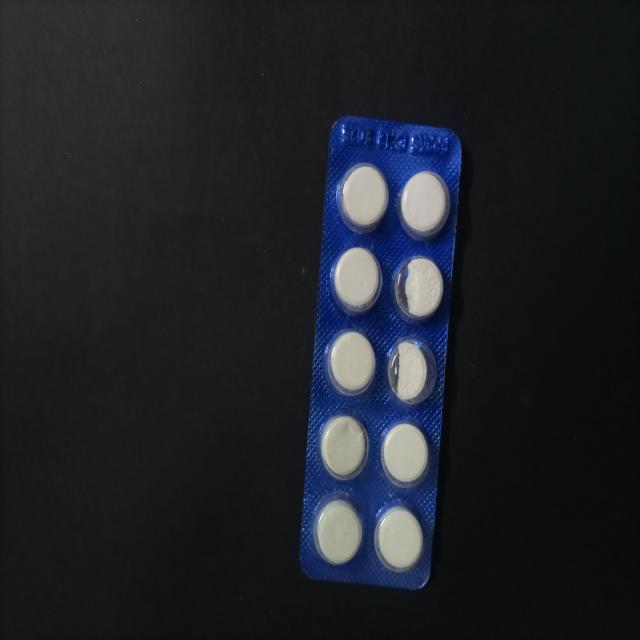defect: (390, 253, 447, 325), (384, 332, 439, 406)
